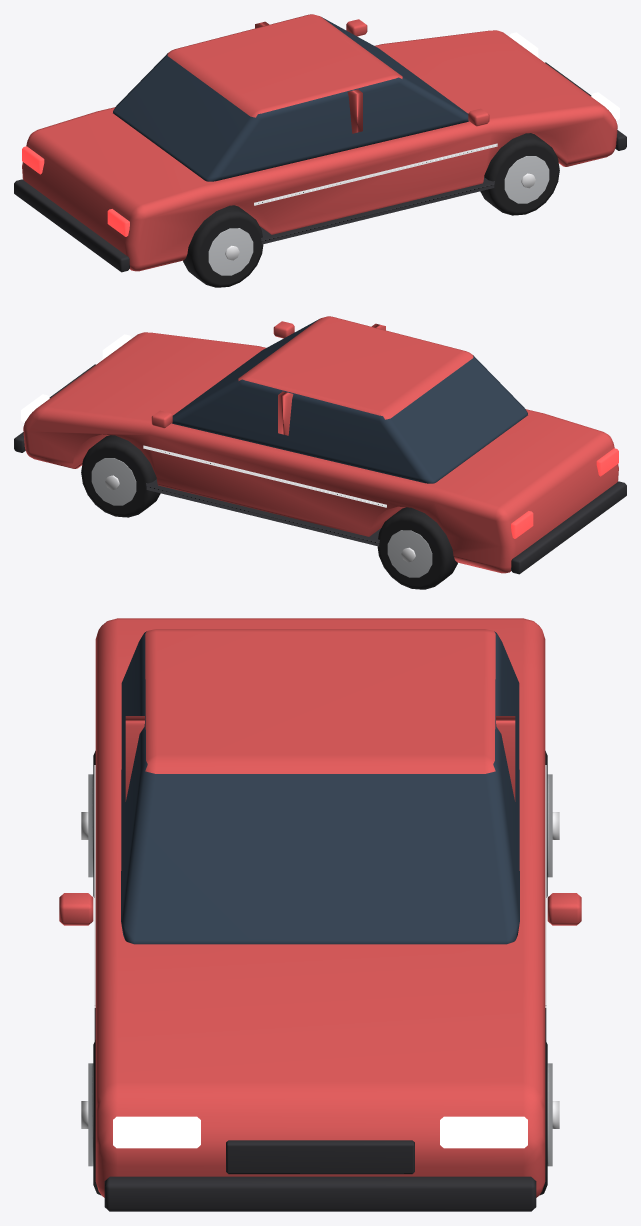
The model's file is rc-sedan.glb.
The picture shows the model from 3 angles, top to bottom: view 1: azimuth 30°, elevation 25°; view 2: azimuth 150°, elevation 25°; view 3: azimuth 270°, elevation 25°; orthographic projection. The views are drawn at different scales.
Parts seen in each view (by area): view 1: car_sedan; view 2: car_sedan; view 3: car_sedan.
Part boxes in pixels (x1,y1,x2,y2): car_sedan: [14, 14, 626, 287]; car_sedan: [14, 316, 626, 589]; car_sedan: [59, 618, 581, 1211].
Bounding box in the file's own units: 4.8 × 1.44 × 2.14.
